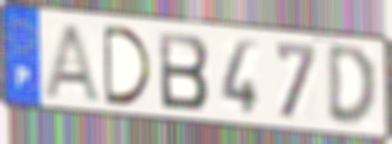4: (218, 36, 263, 118)
7: (273, 38, 319, 124)
A: (40, 21, 105, 106)
B: (156, 28, 212, 112)
D: (324, 43, 380, 131), (100, 22, 155, 108)
